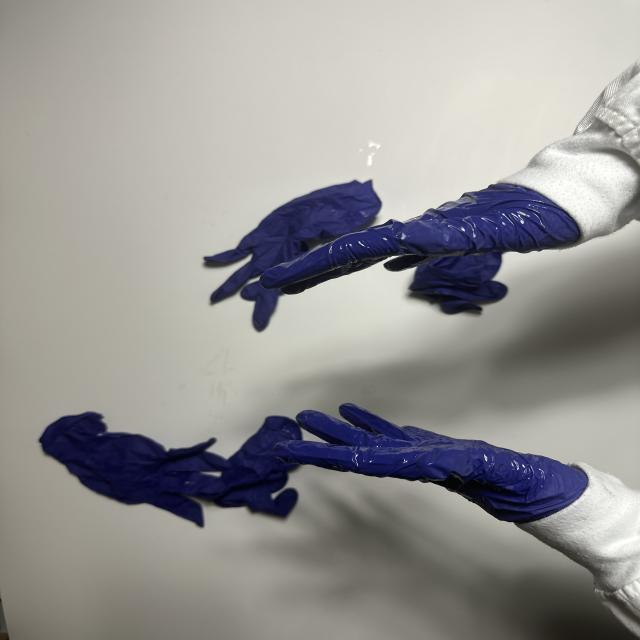gloves_contaminated: (274, 404, 588, 524), (261, 184, 580, 294)
